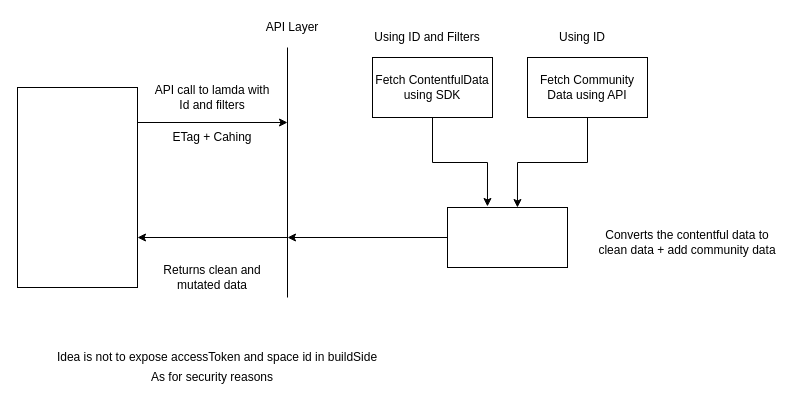
The diagram is 795 pixels wide and 404 high, and some of its shapes have lost their labels. The centre of each missing label's shape, as x and y in pixels:
BuildApp: pixel 77 187
Transformation Layer + Mutation Layer: pixel 507 237
